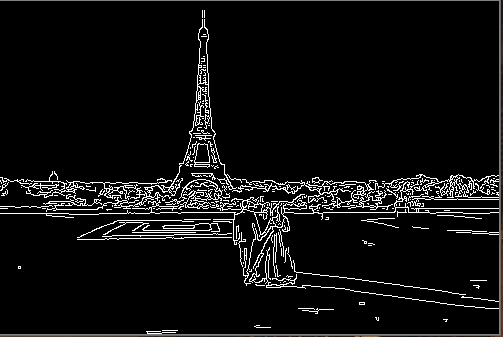eiffel tower: (150, 8, 241, 195)
